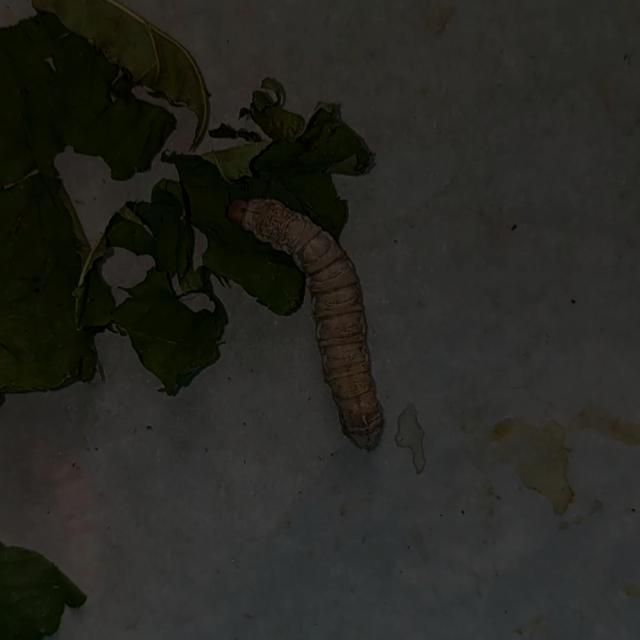Grasserie: (222, 188, 394, 452)
